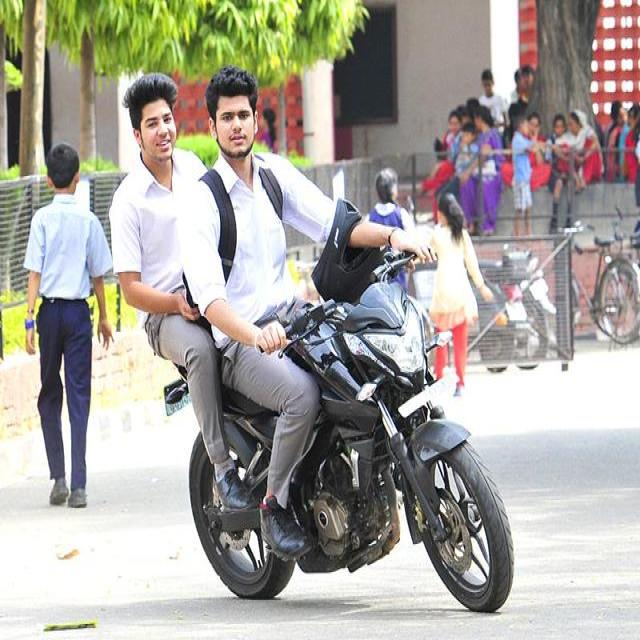Face and Hair: (116, 57, 182, 172), (201, 60, 264, 164)
